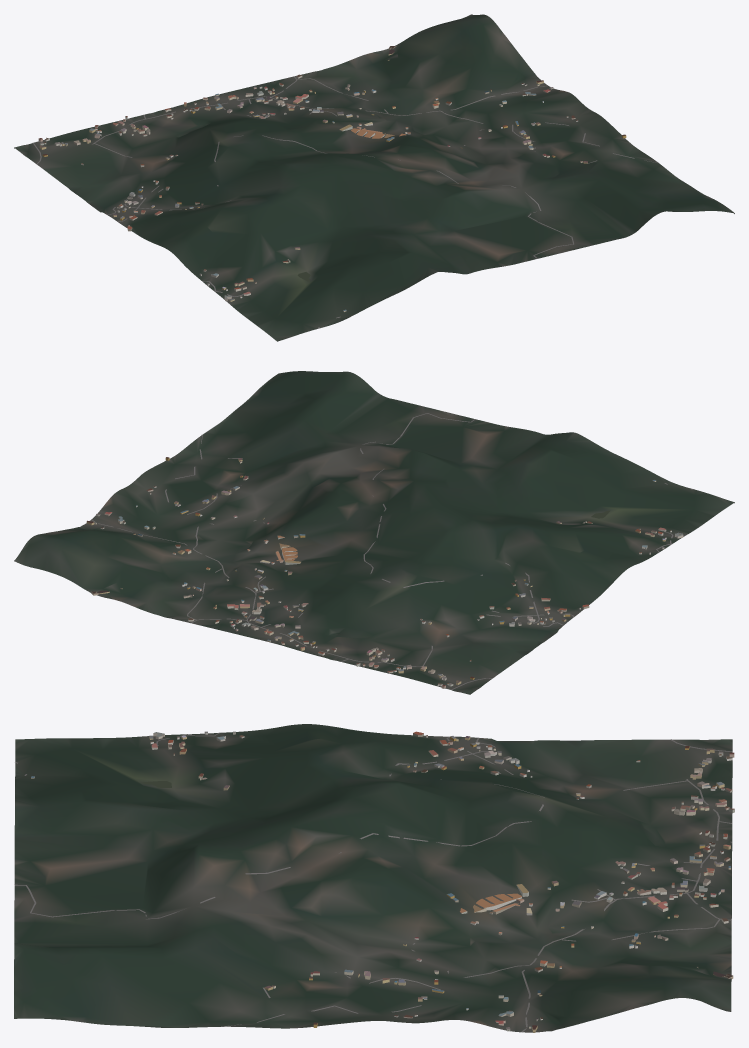
3 renders of one model, top to bottom at view 1: azimuth 30°, elevation 25°; view 2: azimuth 150°, elevation 25°; view 3: azimuth 270°, elevation 25°, orthographic. The views are drawn at different scales.
Visible parts, largest first — view 1: ground, buildings, roads; view 2: ground, buildings, roads; view 3: ground, buildings, roads.
Boxes of the visible parts, left/top/right/bottom form: ground: left=14, top=14, right=734, bottom=341; buildings: left=38, top=46, right=626, bottom=311; roads: left=33, top=76, right=658, bottom=328; ground: left=14, top=371, right=734, bottom=694; buildings: left=86, top=457, right=683, bottom=688; roads: left=91, top=413, right=694, bottom=689; ground: left=14, top=724, right=732, bottom=1032; buildings: left=31, top=731, right=734, bottom=1032; roads: left=14, top=732, right=732, bottom=1032.
Bounding box in the file's own units: 1411 × 135 × 1409.
